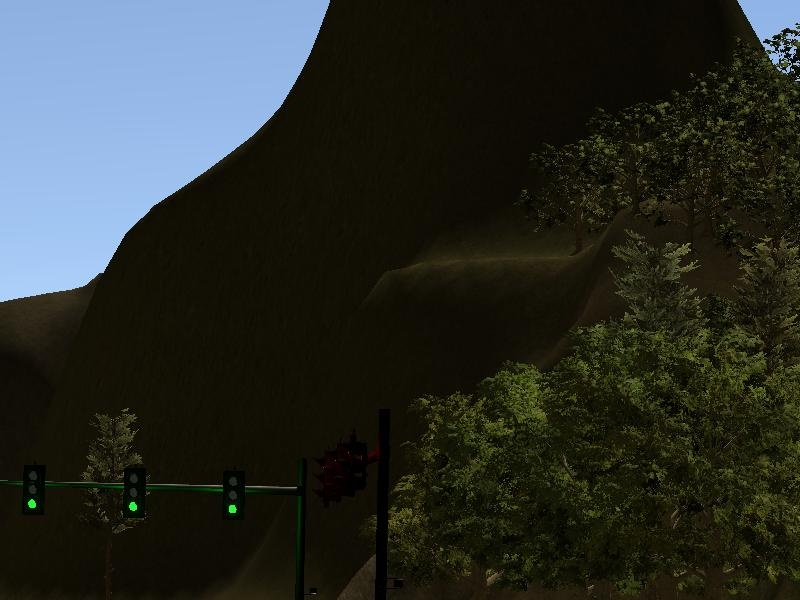Green: (221, 469, 246, 521), (21, 464, 45, 516), (123, 466, 146, 519)
